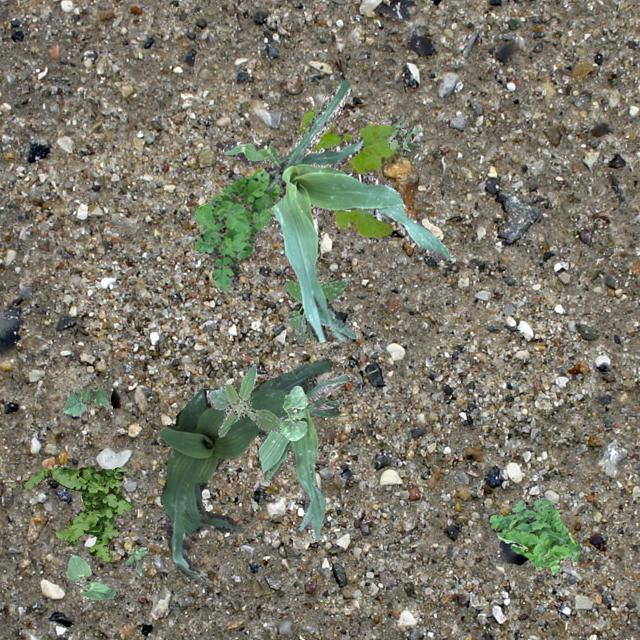crop: (222, 78, 456, 342), (158, 356, 338, 584), (258, 372, 350, 540), (64, 552, 116, 600), (278, 384, 306, 440), (60, 386, 111, 416)
weed: (250, 106, 398, 236), (194, 166, 280, 294), (21, 466, 132, 560), (488, 497, 580, 572), (207, 362, 280, 437), (282, 278, 346, 342), (386, 112, 421, 154), (124, 544, 146, 574)
